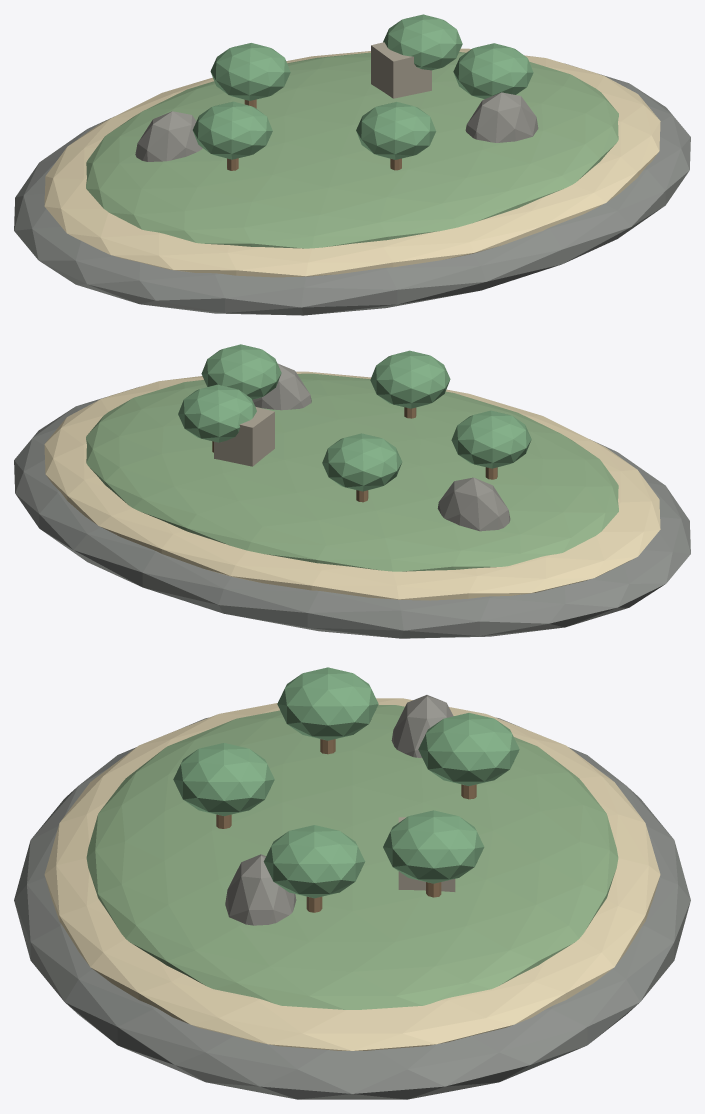
Rendered from island_tropical_medium_m201.glb.
The picture shows the model from 3 angles, top to bottom: view 1: azimuth 30°, elevation 25°; view 2: azimuth 150°, elevation 25°; view 3: azimuth 270°, elevation 25°; orthographic projection. The views are drawn at different scales.
Visible parts, largest first — view 1: Ground, Rock, Sand, Foliage1, Foliage2, Foliage3, Foliage0, Foliage4, Cliff1, Cliff0, RuinTower; view 2: Ground, Rock, Sand, Foliage3, Foliage1, Foliage2, Foliage4, Foliage0, Cliff0, RuinTower, Cliff1; view 3: Ground, Rock, Sand, Foliage2, Foliage0, Foliage3, Foliage1, Foliage4, Cliff1, Cliff0.
Boxes of the visible parts, box(x1,y1,x2,y2) form: Ground: box(86, 52, 618, 248); Rock: box(14, 63, 690, 315); Sand: box(44, 48, 660, 277); Foliage1: box(356, 102, 436, 159); Foliage2: box(192, 101, 272, 159); Foliage3: box(210, 43, 290, 100); Foliage0: box(453, 43, 533, 99); Foliage4: box(383, 14, 462, 70); Cliff1: box(465, 92, 538, 142); Cliff0: box(135, 111, 202, 161); RuinTower: box(371, 42, 431, 98); Ground: box(86, 373, 618, 571); Rock: box(14, 386, 690, 638); Sand: box(44, 371, 660, 600); Foliage3: box(322, 433, 402, 491); Foliage1: box(370, 350, 450, 408); Foliage2: box(451, 410, 531, 468); Foliage4: box(178, 384, 256, 442); Foliage0: box(201, 344, 281, 399); Cliff0: box(437, 477, 510, 531); RuinTower: box(214, 407, 274, 466); Cliff1: box(252, 363, 311, 410); Ground: box(86, 705, 618, 1009); Rock: box(14, 717, 690, 1099); Sand: box(44, 698, 660, 1050); Foliage2: box(277, 667, 378, 740); Foliage0: box(263, 825, 365, 898); Foliage3: box(418, 713, 519, 785); Foliage1: box(173, 743, 274, 816); Foliage4: box(383, 810, 484, 883); Cliff1: box(225, 854, 296, 925); Cliff0: box(391, 695, 453, 757).
Size of the model in its own units: 13 by 3.19 by 9.6.
